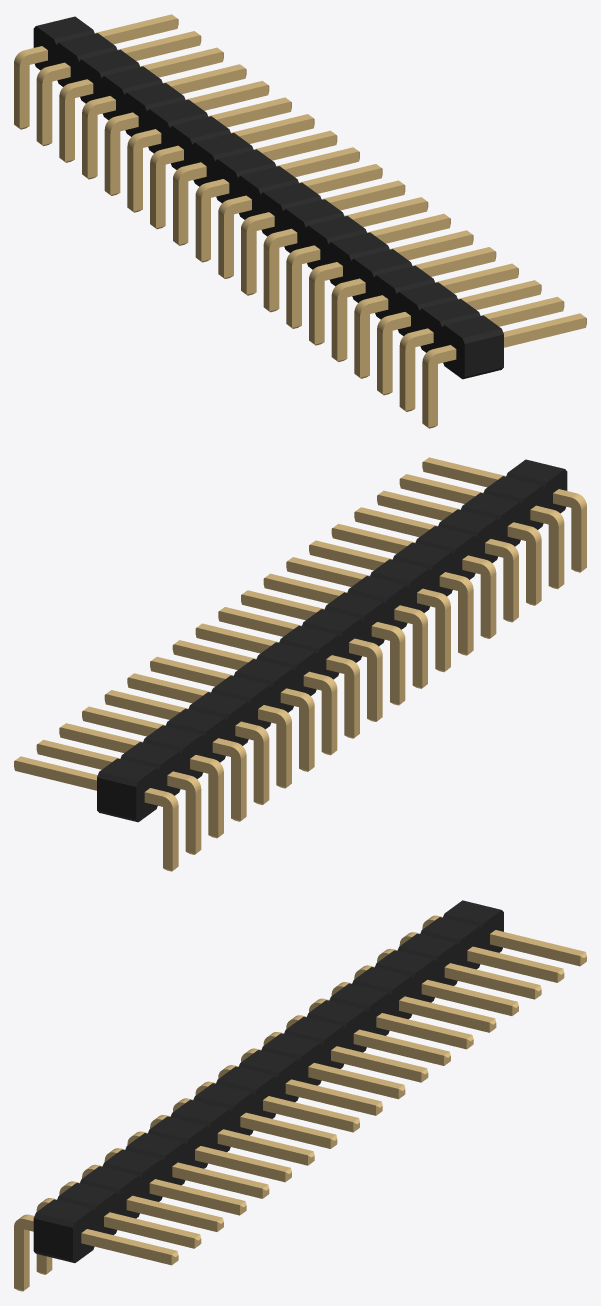
Rendered from kc-pinheader_1x19_p2.54mm_horizontal.glb.
3 views of the same model, one above another, from view 1: azimuth 30°, elevation 25°; view 2: azimuth 150°, elevation 25°; view 3: azimuth 330°, elevation 25° (orthographic).
Visible parts, largest first — view 1: 0.75_0.5_0.25_0.9, 0_0_0_0; view 2: 0.75_0.5_0.25_0.9, 0_0_0_0; view 3: 0.75_0.5_0.25_0.9, 0_0_0_0.
Boxes of the visible parts, box(x1,y1,x2,y2) form: 0.75_0.5_0.25_0.9: box(14, 14, 586, 428); 0_0_0_0: box(33, 16, 503, 379); 0.75_0.5_0.25_0.9: box(14, 457, 586, 871); 0_0_0_0: box(97, 459, 567, 822); 0.75_0.5_0.25_0.9: box(14, 915, 586, 1291); 0_0_0_0: box(33, 900, 503, 1262).
Bounding box in the file's own units: 1.04 × 0.5539 × 4.83.
